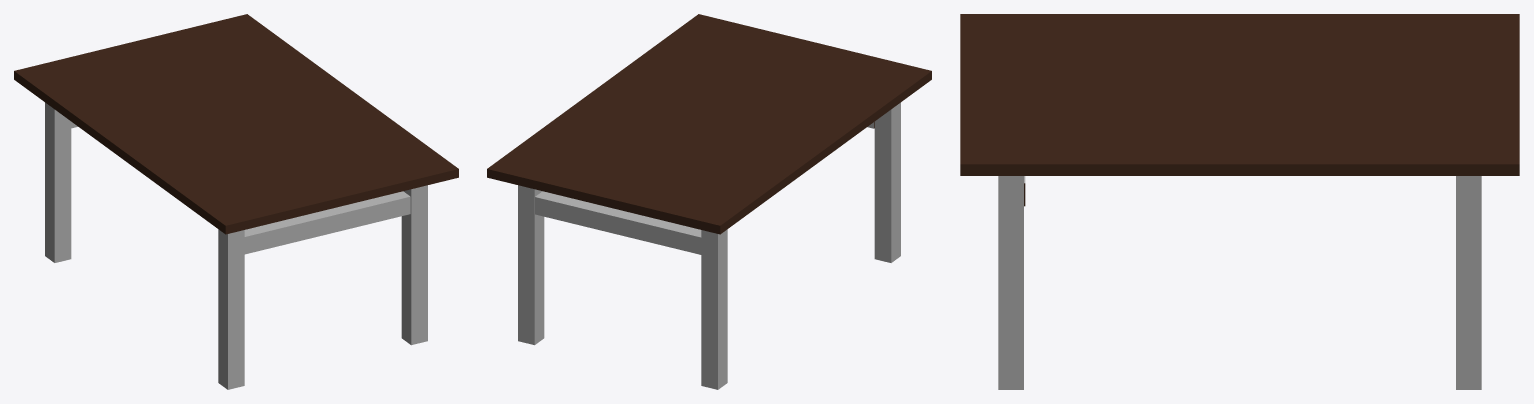
File: tbale_materials.fbx
The picture shows the model from 3 angles, left to right: view 1: azimuth 30°, elevation 25°; view 2: azimuth 150°, elevation 25°; view 3: azimuth 270°, elevation 25°; orthographic projection. The views are drawn at different scales.
Parts seen in each view (by area): view 1: table; view 2: table; view 3: table.
Part boxes in pixels (x1,y1,x2,y2): table: (14,14,458,389); table: (487,14,931,389); table: (960,14,1519,389).
Bounding box in the file's own units: 140 × 103 × 220.
